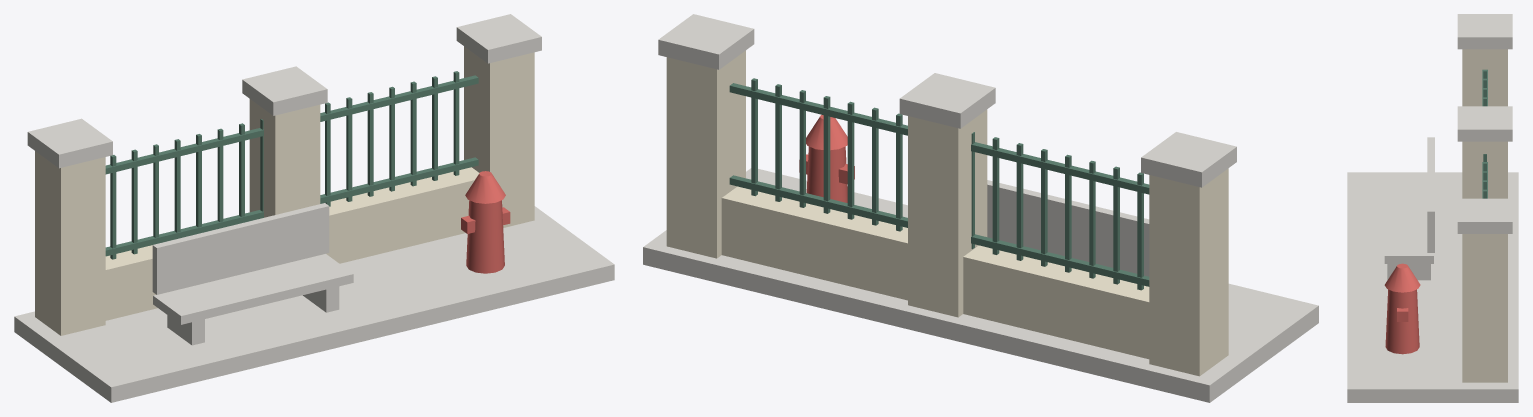
The model's file is prop_19_french_villa_fence_granito_bench_hydrant.glb.
3 views of the same model, side by side, from view 1: azimuth 30°, elevation 25°; view 2: azimuth 150°, elevation 25°; view 3: azimuth 270°, elevation 25° (orthographic). The views are drawn at different scales.
Visible parts, largest first — view 1: prop_19_french_villa_fence_granito_bench_hydrant; view 2: prop_19_french_villa_fence_granito_bench_hydrant; view 3: prop_19_french_villa_fence_granito_bench_hydrant.
Boxes of the visible parts, left/top/right/bottom form: prop_19_french_villa_fence_granito_bench_hydrant: left=14, top=14, right=614, bottom=402; prop_19_french_villa_fence_granito_bench_hydrant: left=643, top=14, right=1318, bottom=402; prop_19_french_villa_fence_granito_bench_hydrant: left=1347, top=14, right=1518, bottom=402.
Size of the model in its own units: 5.4 by 2.05 by 1.8.
